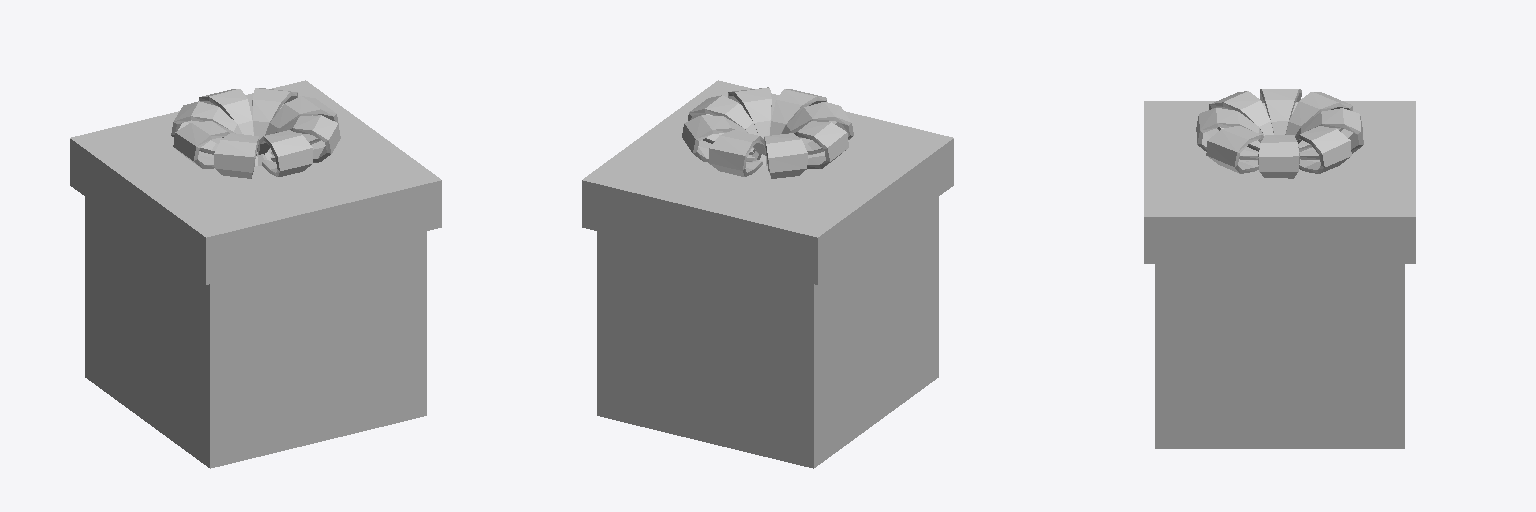
File: Gift_box_01.obj
3 views of the same model, side by side, from view 1: azimuth 30°, elevation 25°; view 2: azimuth 150°, elevation 25°; view 3: azimuth 270°, elevation 25° (orthographic).
Visible parts, largest first — view 1: gift_box_01 Gift_box; view 2: gift_box_01 Gift_box; view 3: gift_box_01 Gift_box.
Boxes of the visible parts, x1,y1,x2,y2 form: gift_box_01 Gift_box: [70, 80, 441, 468]; gift_box_01 Gift_box: [582, 80, 953, 468]; gift_box_01 Gift_box: [1144, 89, 1415, 448].
Size of the model in its own units: 5.62 by 6.38 by 5.62.